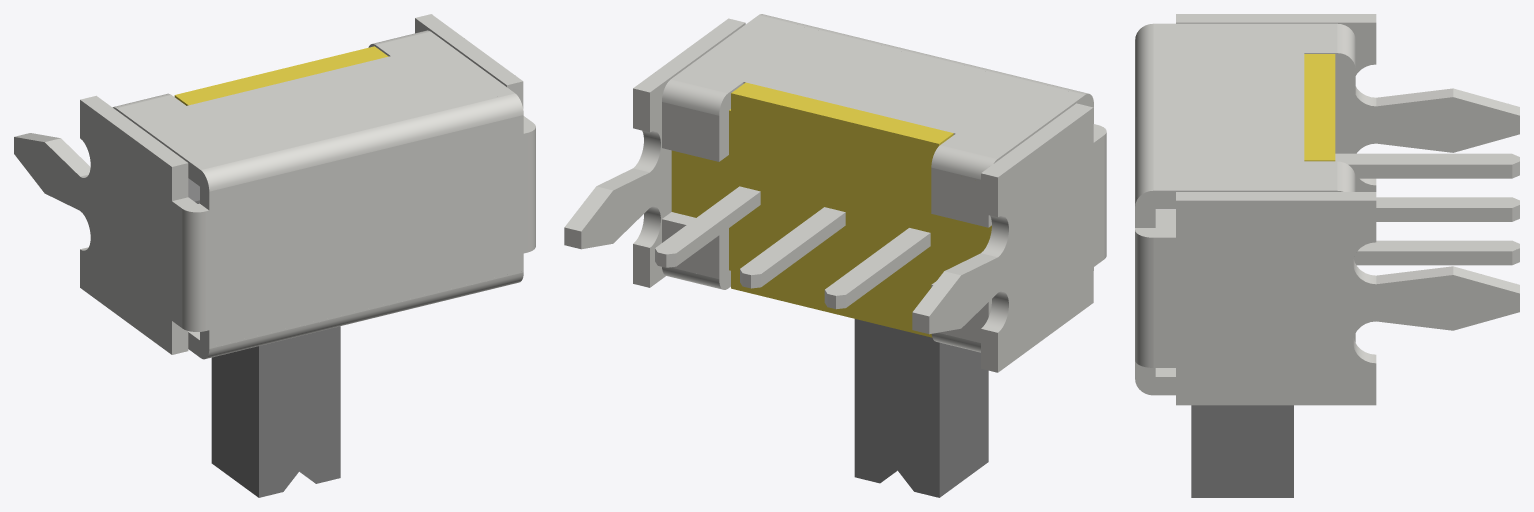
File: SW_Slide_SPDT_Angled_CK_OS102011MA1Q.glb
3 renders of one model, left to right at view 1: azimuth 30°, elevation 25°; view 2: azimuth 150°, elevation 25°; view 3: azimuth 270°, elevation 25°, orthographic. The views are drawn at different scales.
Parts seen in each view (by area): view 1: Shape_IndexedFaceSet.007, Shape_IndexedFaceSet.073, Shape_IndexedFaceSet.174, Shape_IndexedFaceSet.027, Shape_IndexedFaceSet.034, Shape_IndexedFaceSet.187, Shape_IndexedFaceSet.030, Shape_IndexedFaceSet.066, Shape_IndexedFaceSet.040, Shape_IndexedFaceSet.158, Shape_IndexedFaceSet.002, Shape_IndexedFaceSet.063 (+10 smaller); view 2: Shape_IndexedFaceSet.168, Shape_IndexedFaceSet.073, Shape_IndexedFaceSet.190, Shape_IndexedFaceSet.027, Shape_IndexedFaceSet.187, Shape_IndexedFaceSet.030, Shape_IndexedFaceSet.066, Shape_IndexedFaceSet.158, Shape_IndexedFaceSet.086, Shape_IndexedFaceSet.063, Shape_IndexedFaceSet.145, Shape_IndexedFaceSet.146 (+28 smaller); view 3: Shape_IndexedFaceSet.073, Shape_IndexedFaceSet.115, Shape_IndexedFaceSet.182, Shape_IndexedFaceSet.116, Shape_IndexedFaceSet.118, Shape_IndexedFaceSet.067, Shape_IndexedFaceSet.147, Shape_IndexedFaceSet.158, Shape_IndexedFaceSet.034, Shape_IndexedFaceSet.080, Shape_IndexedFaceSet.037, Shape_IndexedFaceSet.212 (+21 smaller).
Boxes of the visible parts, left/top/right/bottom form: Shape_IndexedFaceSet.007: left=207, top=117, right=525, bottom=347; Shape_IndexedFaceSet.073: left=132, top=42, right=513, bottom=169; Shape_IndexedFaceSet.174: left=259, top=326, right=340, bottom=497; Shape_IndexedFaceSet.027: left=80, top=134, right=171, bottom=320; Shape_IndexedFaceSet.034: left=201, top=93, right=523, bottom=191; Shape_IndexedFaceSet.187: left=211, top=346, right=258, bottom=497; Shape_IndexedFaceSet.030: left=80, top=100, right=171, bottom=200; Shape_IndexedFaceSet.066: left=80, top=254, right=171, bottom=354; Shape_IndexedFaceSet.040: left=206, top=272, right=523, bottom=358; Shape_IndexedFaceSet.158: left=175, top=46, right=388, bottom=105; Shape_IndexedFaceSet.002: left=182, top=209, right=205, bottom=331; Shape_IndexedFaceSet.063: left=14, top=137, right=79, bottom=210; Shape_IndexedFaceSet.168: left=671, top=93, right=991, bottom=337; Shape_IndexedFaceSet.073: left=687, top=16, right=1083, bottom=147; Shape_IndexedFaceSet.190: left=854, top=319, right=939, bottom=497; Shape_IndexedFaceSet.027: left=998, top=143, right=1093, bottom=336; Shape_IndexedFaceSet.187: left=939, top=342, right=988, bottom=497; Shape_IndexedFaceSet.030: left=998, top=107, right=1093, bottom=212; Shape_IndexedFaceSet.066: left=998, top=267, right=1093, bottom=372; Shape_IndexedFaceSet.158: left=731, top=82, right=953, bottom=143; Shape_IndexedFaceSet.086: left=581, top=172, right=649, bottom=249; Shape_IndexedFaceSet.063: left=929, top=257, right=997, bottom=334; Shape_IndexedFaceSet.145: left=662, top=103, right=719, bottom=161; Shape_IndexedFaceSet.146: left=931, top=169, right=988, bottom=227; Shape_IndexedFaceSet.073: left=1155, top=23, right=1304, bottom=190; Shape_IndexedFaceSet.115: left=1176, top=237, right=1376, bottom=367; Shape_IndexedFaceSet.182: left=1191, top=405, right=1293, bottom=497; Shape_IndexedFaceSet.116: left=1176, top=368, right=1376, bottom=405; Shape_IndexedFaceSet.118: left=1176, top=200, right=1376, bottom=237; Shape_IndexedFaceSet.067: left=1376, top=97, right=1519, bottom=152; Shape_IndexedFaceSet.147: left=1376, top=275, right=1519, bottom=330; Shape_IndexedFaceSet.158: left=1304, top=54, right=1335, bottom=160; Shape_IndexedFaceSet.034: left=1135, top=23, right=1153, bottom=205; Shape_IndexedFaceSet.080: left=1155, top=237, right=1175, bottom=367; Shape_IndexedFaceSet.037: left=1135, top=230, right=1153, bottom=367; Shape_IndexedFaceSet.212: left=1348, top=164, right=1512, bottom=178.
Size of the model in its own units: 3.39 by 3.31 by 2.95.
